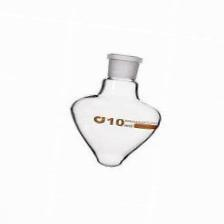Pear shaped flask: (61, 51, 164, 165)
